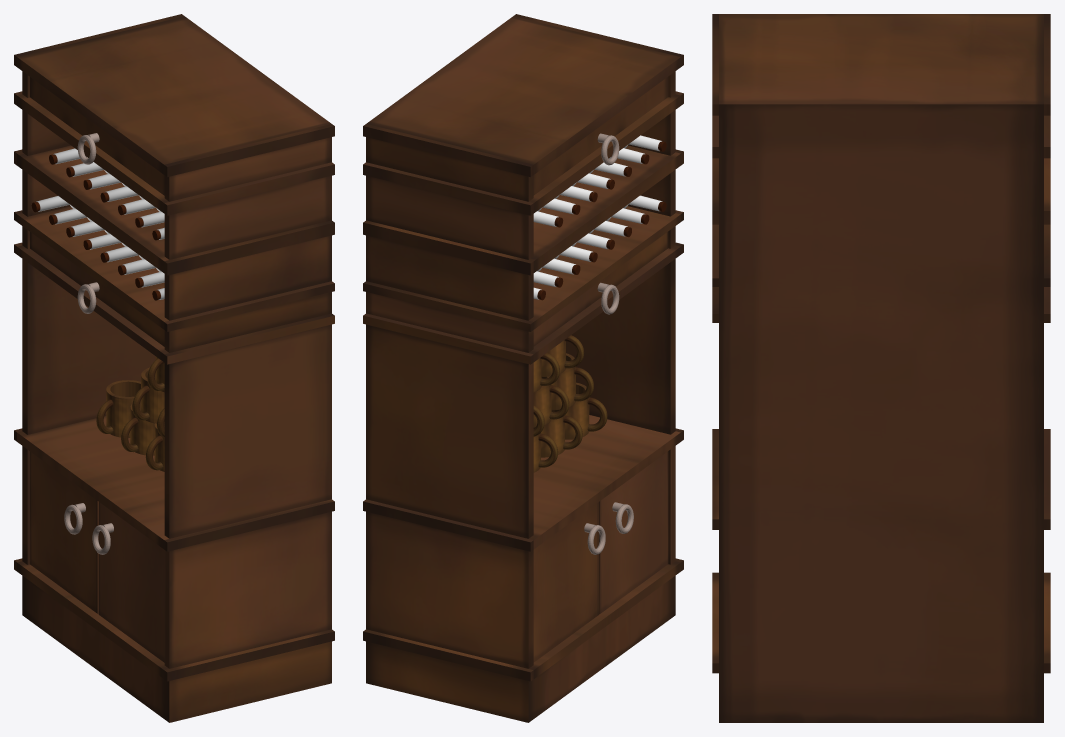
Rendered from cupboard_mod.fbx.
3 renders of one model, left to right at view 1: azimuth 30°, elevation 25°; view 2: azimuth 150°, elevation 25°; view 3: azimuth 270°, elevation 25°, orthographic. The views are drawn at different scales.
Parts seen in each view (by area): view 1: Plane.040, Cylinder.123, Cylinder.127, Cylinder.129, Cylinder.124; view 2: Plane.040, Cylinder.127, Cylinder.123, Cylinder.129, Cylinder.124, Cylinder.125; view 3: Plane.040.
Part boxes in pixels (left/top/right/bottom): Plane.040: left=14, top=14, right=334, bottom=722; Cylinder.123: left=96, top=380, right=164, bottom=471; Cylinder.127: left=31, top=196, right=164, bottom=300; Cylinder.129: left=49, top=148, right=164, bottom=240; Cylinder.124: left=132, top=367, right=164, bottom=437; Plane.040: left=363, top=14, right=683, bottom=722; Cylinder.127: left=533, top=195, right=666, bottom=300; Cylinder.123: left=533, top=382, right=607, bottom=472; Cylinder.129: left=533, top=135, right=666, bottom=227; Cylinder.124: left=533, top=353, right=593, bottom=436; Cylinder.125: left=533, top=335, right=584, bottom=392; Plane.040: left=712, top=14, right=1050, bottom=722.
Bounding box in the file's own units: 334 × 1022 × 507.
Materials: 6 (3 with a texture image).
